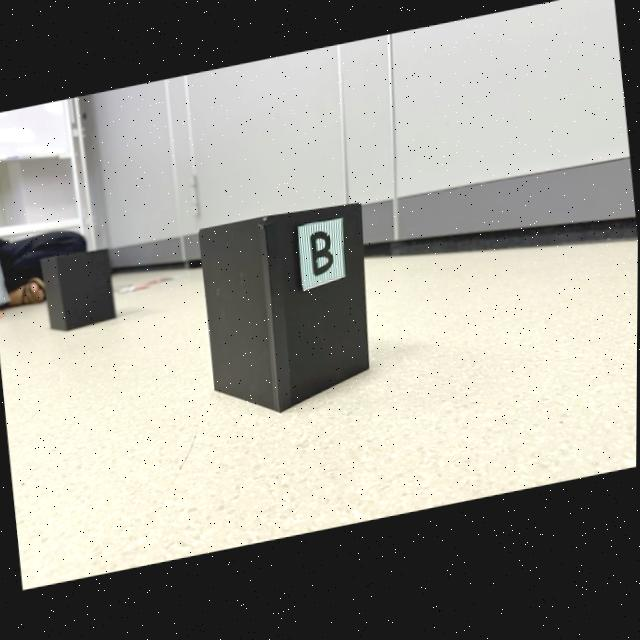B: (310, 237, 333, 282)
